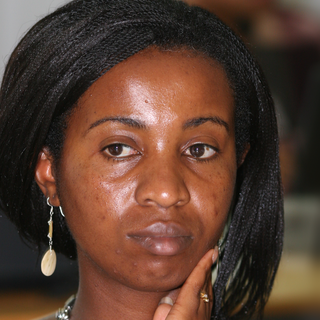eye: (174, 136, 221, 166), (94, 136, 144, 164)
